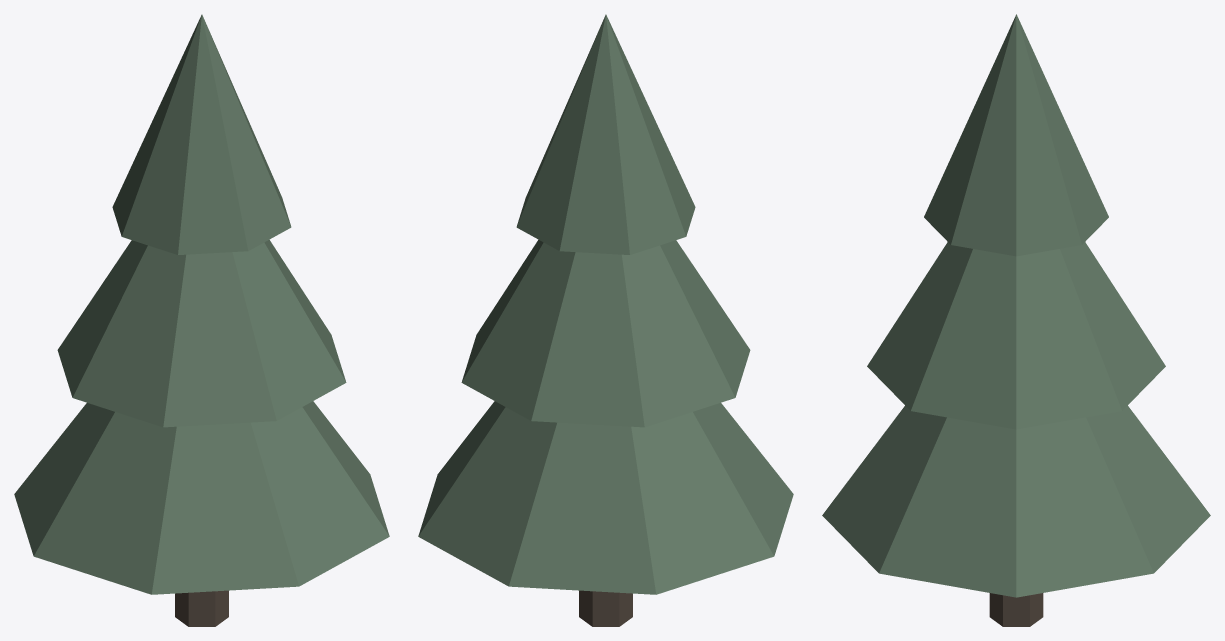
The model's file is Tree_Conifer.glb.
3 renders of one model, left to right at view 1: azimuth 30°, elevation 25°; view 2: azimuth 150°, elevation 25°; view 3: azimuth 270°, elevation 25°, orthographic.
Parts seen in each view (by area): view 1: Tree_Conifer; view 2: Tree_Conifer; view 3: Tree_Conifer.
Part boxes in pixels (<box>): Tree_Conifer: <box>14,14,389,626</box>; Tree_Conifer: <box>418,14,793,626</box>; Tree_Conifer: <box>822,14,1210,626</box>.
Size of the model in its own units: 2.6 by 4.45 by 2.6.
